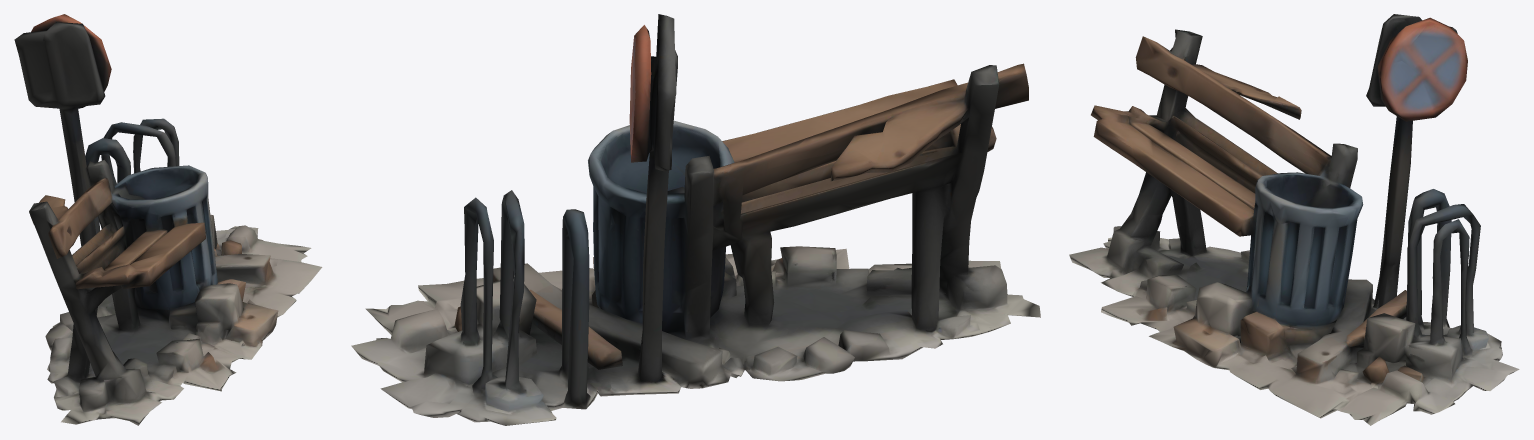
File: SM_Prop_ParkBench_01.fbx
The picture shows the model from 3 angles, left to right: view 1: azimuth 30°, elevation 25°; view 2: azimuth 150°, elevation 25°; view 3: azimuth 270°, elevation 25°; orthographic projection. The views are drawn at different scales.
Visible parts, largest first — view 1: SM_Prop_ParkBench_01; view 2: SM_Prop_ParkBench_01; view 3: SM_Prop_ParkBench_01.
Part boxes in pixels (x1=…): SM_Prop_ParkBench_01: x1=14, y1=14, x2=322, y2=425; SM_Prop_ParkBench_01: x1=351, y1=14, x2=1040, y2=425; SM_Prop_ParkBench_01: x1=1069, y1=14, x2=1519, y2=425.
Bounding box in the file's own units: 1 × 0.716 × 0.9879.
Materials: 1 (1 with a texture image).
